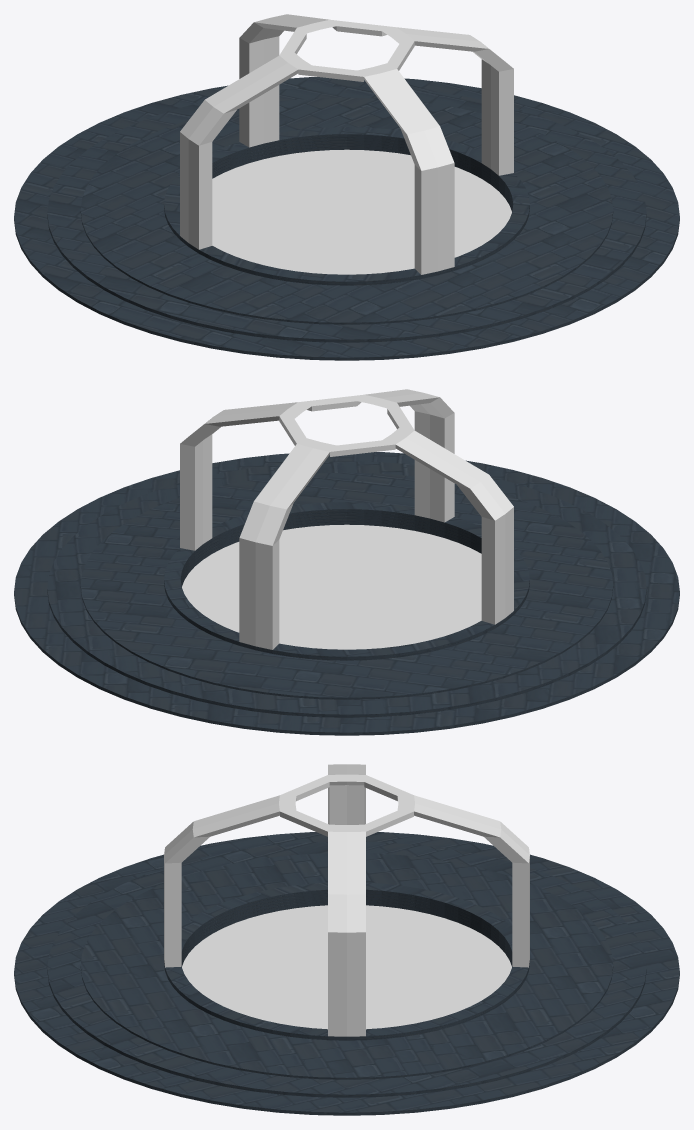
Rendered from Portal.fbx.
3 renders of one model, top to bottom at view 1: azimuth 30°, elevation 25°; view 2: azimuth 150°, elevation 25°; view 3: azimuth 270°, elevation 25°, orthographic.
Visible parts, largest first — view 1: Cylinder, Cylinder.001; view 2: Cylinder, Cylinder.001; view 3: Cylinder, Cylinder.001.
Part boxes in pixels (left/top/right/bottom): Cylinder: left=14, top=14, right=679, bottom=360; Cylinder.001: left=212, top=149, right=511, bottom=274; Cylinder: left=14, top=389, right=679, bottom=735; Cylinder.001: left=182, top=524, right=481, bottom=649; Cylinder: left=14, top=764, right=679, bottom=1115; Cylinder.001: left=182, top=905, right=511, bottom=1029.
Size of the model in its own units: 2320 by 715 by 2320.
